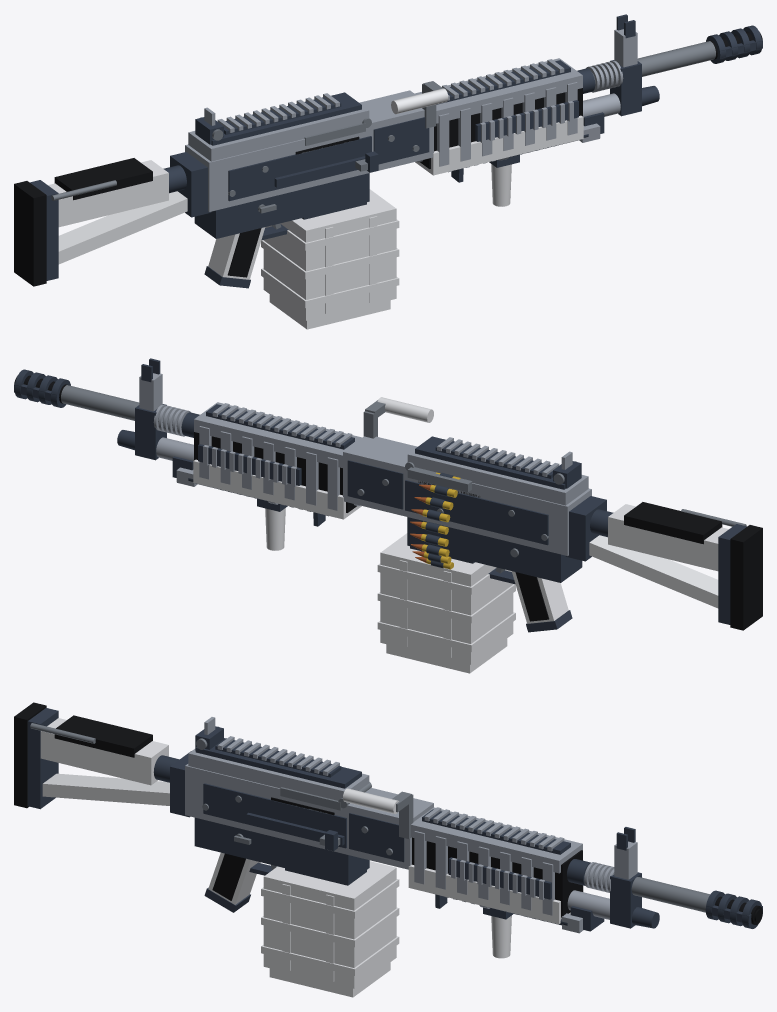
The model's file is tactical_lmg(white).glb.
3 renders of one model, top to bottom at view 1: azimuth 30°, elevation 25°; view 2: azimuth 150°, elevation 25°; view 3: azimuth 330°, elevation 25°, orthographic.
Visible parts, largest first — view 1: Ammo_Box_Body, Upper_Receiver, Lower_Receiver, Side_Plate_Rear, Stock_Lower_Strut, Recoil_Buttpad, Stock_Cheek_Comb, Feed_Cover_Base, Handguard_Lower_Hull, Handguard_Upper_Bridge, Cheek_Rest_Pad, Receiver_Trunnion (+24 smaller); view 2: Ammo_Box_Body, Upper_Receiver, Lower_Receiver, Side_Plate_Rear, Stock_Lower_Strut, Recoil_Buttpad, Stock_Cheek_Comb, Feed_Cover_Base, Handguard_Upper_Bridge, Handguard_Lower_Hull, Cheek_Rest_Pad, Receiver_Trunnion (+23 smaller); view 3: Ammo_Box_Body, Upper_Receiver, Lower_Receiver, Stock_Cheek_Comb, Side_Plate_Rear, Stock_Lower_Strut, Handguard_Upper_Bridge, Feed_Cover_Base, Handguard_Lower_Hull, Cheek_Rest_Pad, Buttplate_Frame, Receiver_Trunnion (+24 smaller).
Part boxes in pixels (<box>): Ammo_Box_Body: <box>263,189,396,320</box>; Upper_Receiver: <box>185,90,433,211</box>; Lower_Receiver: <box>194,173,369,238</box>; Side_Plate_Rear: <box>228,136,371,201</box>; Stock_Lower_Strut: <box>58,191,187,264</box>; Recoil_Buttpad: <box>14,181,46,286</box>; Stock_Cheek_Comb: <box>48,160,168,227</box>; Feed_Cover_Base: <box>188,105,369,161</box>; Handguard_Lower_Hull: <box>415,115,583,175</box>; Handguard_Upper_Bridge: <box>414,58,582,123</box>; Cheek_Rest_Pad: <box>54,158,152,200</box>; Receiver_Trunnion: <box>373,117,429,164</box>; Ammo_Box_Body: <box>380,533,513,664</box>; Upper_Receiver: <box>343,436,591,555</box>; Lower_Receiver: <box>407,517,582,582</box>; Side_Plate_Rear: <box>405,480,548,545</box>; Stock_Lower_Strut: <box>589,535,718,608</box>; Recoil_Buttpad: <box>730,525,762,630</box>; Stock_Cheek_Comb: <box>608,504,728,571</box>; Feed_Cover_Base: <box>407,449,588,505</box>; Handguard_Upper_Bridge: <box>194,402,362,467</box>; Handguard_Lower_Hull: <box>193,459,361,519</box>; Cheek_Rest_Pad: <box>624,502,722,544</box>; Receiver_Trunnion: <box>347,460,403,509</box>; Ammo_Box_Body: <box>263,861,396,988</box>; Upper_Receiver: <box>185,764,433,869</box>; Lower_Receiver: <box>194,817,369,883</box>; Stock_Cheek_Comb: <box>40,718,168,785</box>; Side_Plate_Rear: <box>203,783,346,848</box>; Stock_Lower_Strut: <box>42,773,169,805</box>; Handguard_Upper_Bridge: <box>411,807,582,873</box>; Feed_Cover_Base: <box>188,749,369,800</box>; Handguard_Lower_Hull: <box>408,864,583,924</box>; Cheek_Rest_Pad: <box>54,715,152,757</box>; Buttplate_Frame: <box>27,708,58,809</box>; Receiver_Trunnion: <box>349,813,404,862</box>.
Size of the model in its own units: 13.41 by 3.91 by 1.75.
